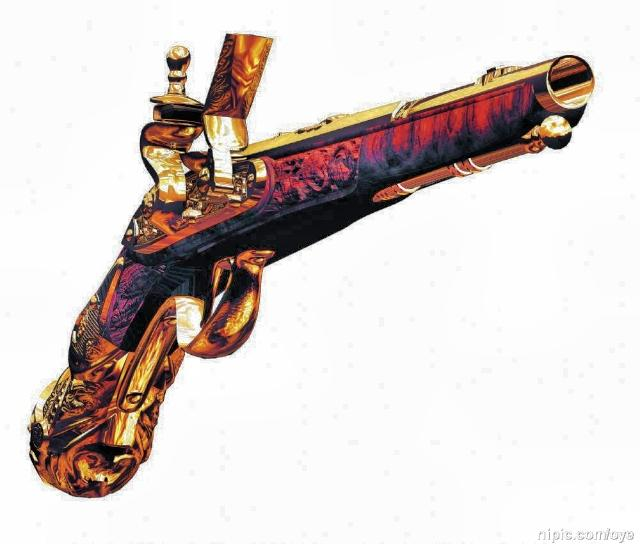pistol: (27, 29, 595, 494)
